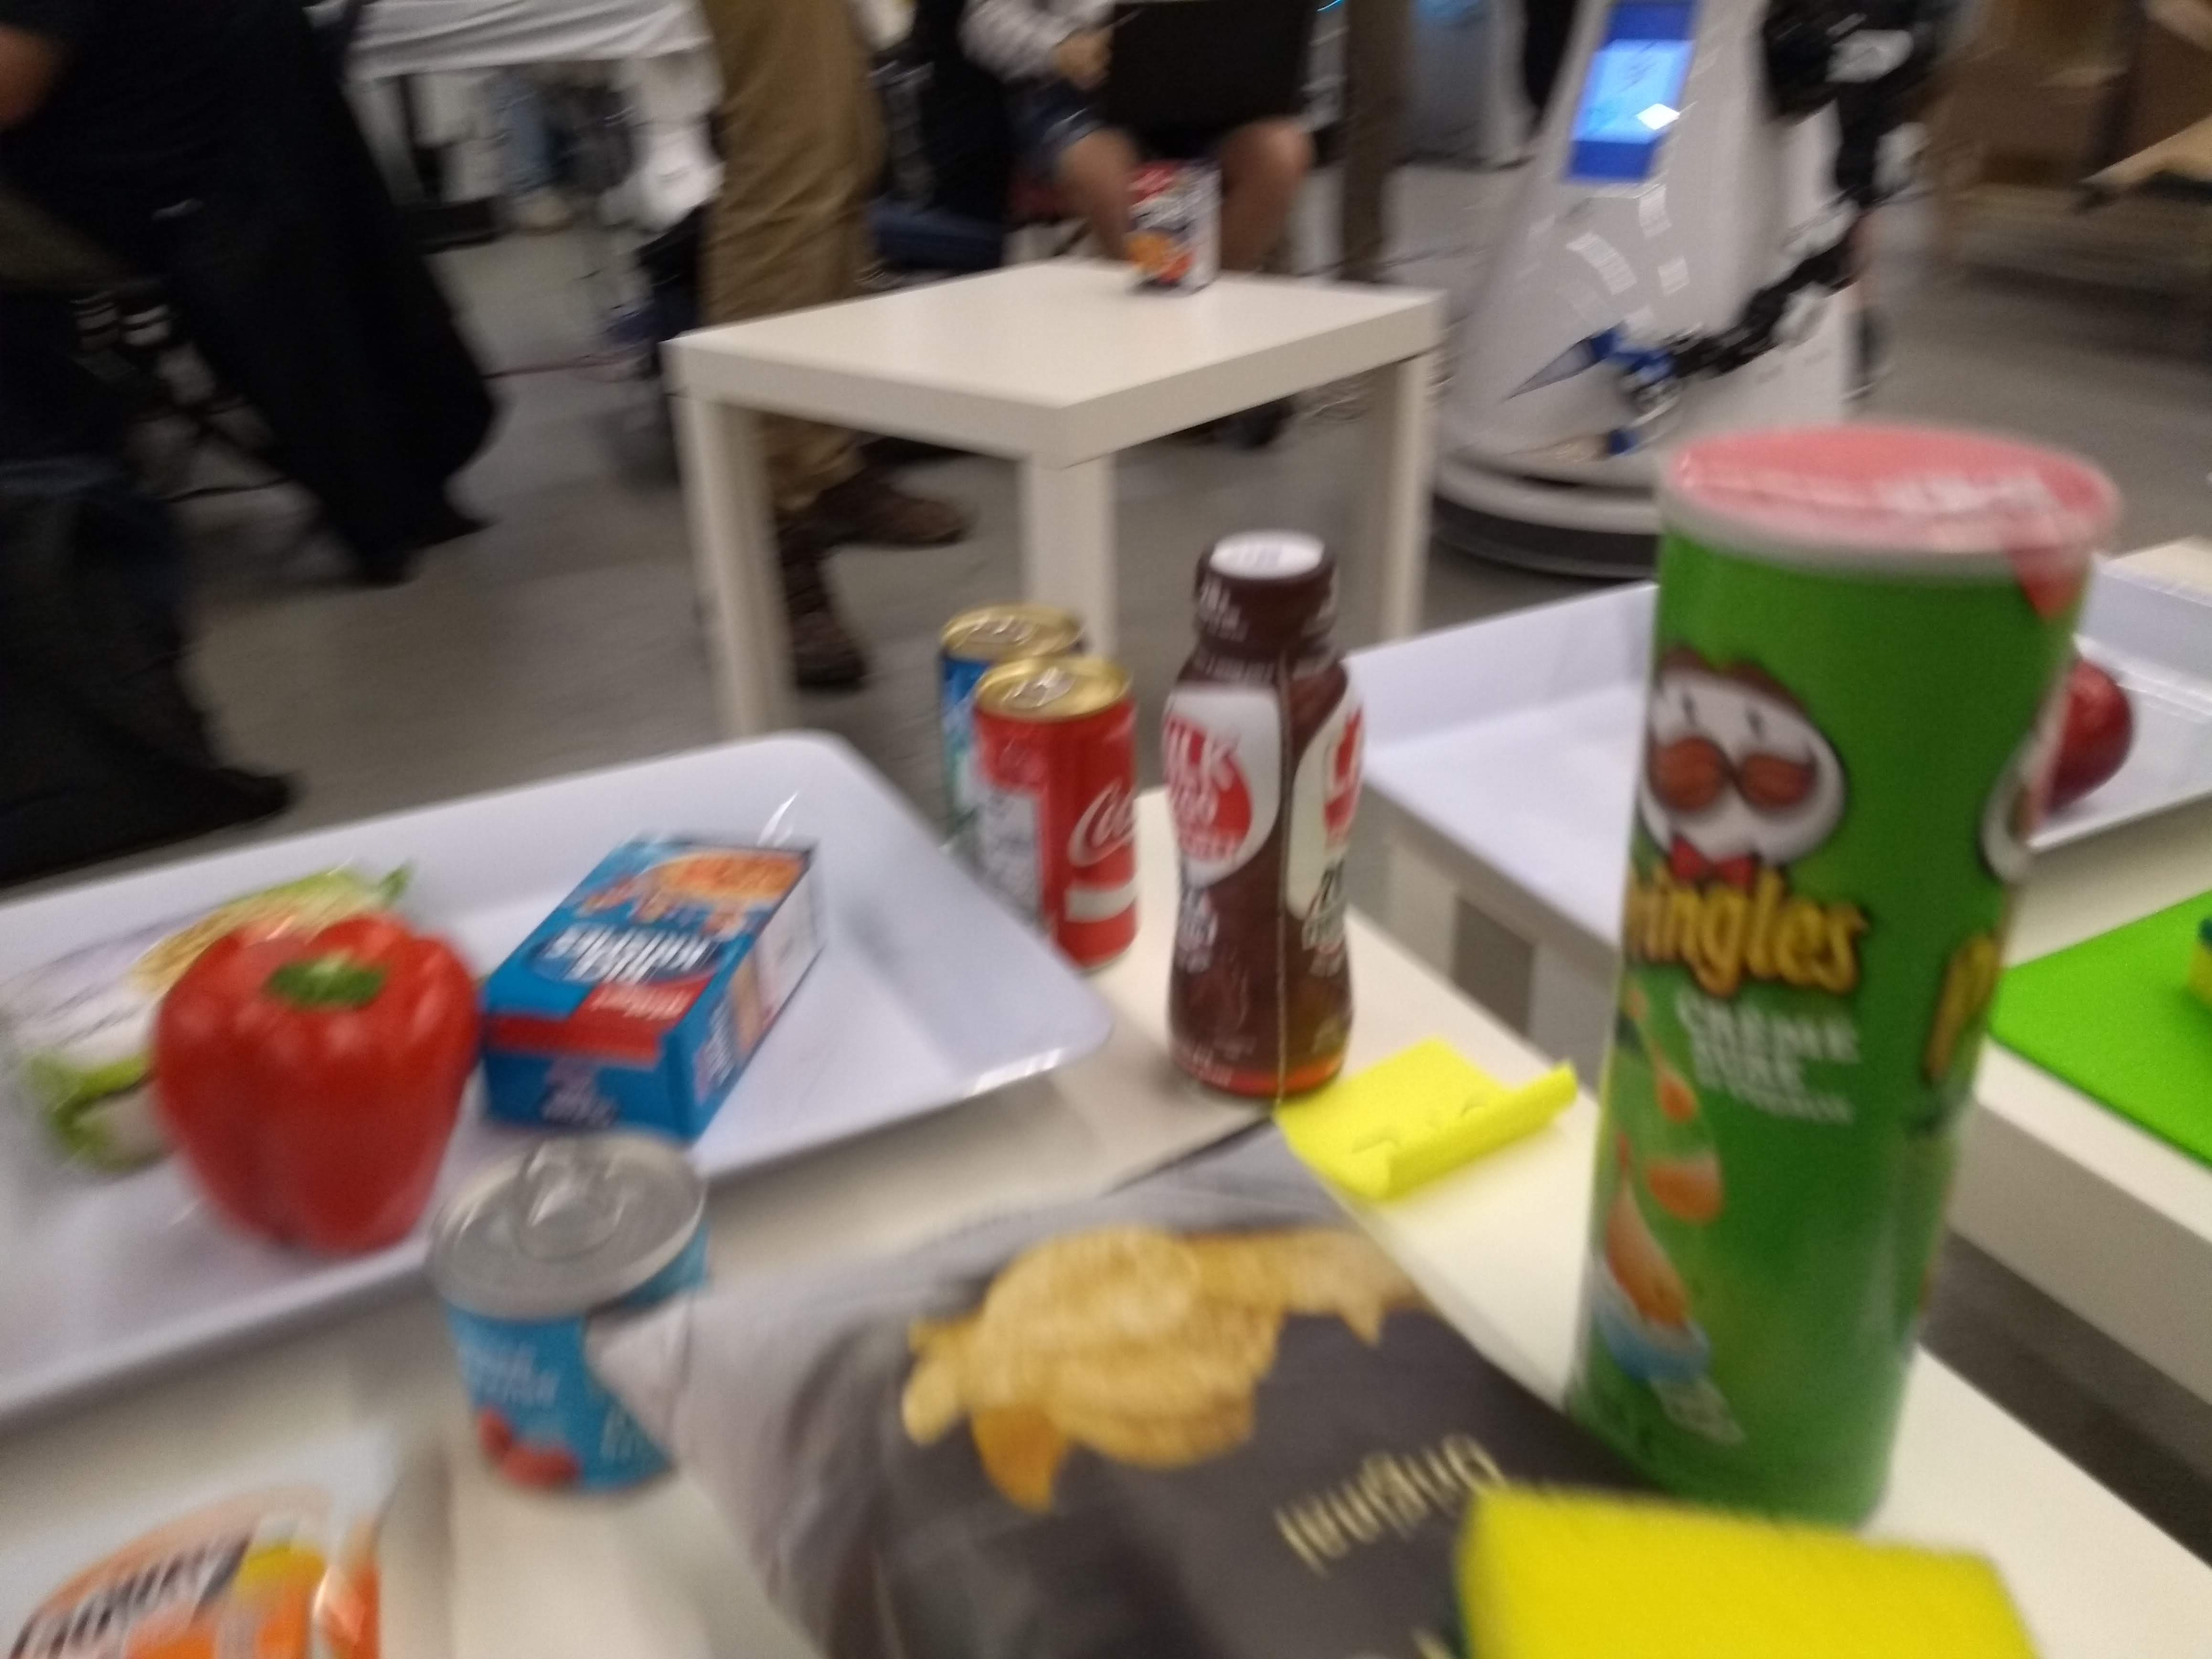cereal: (460, 823, 834, 1148)
chocolate_drink: (1155, 519, 1381, 1115)
coke: (972, 648, 1153, 985)
paprika: (155, 910, 489, 1269)
pringles: (1538, 404, 2128, 1560)
sausages: (420, 1122, 728, 1509)
